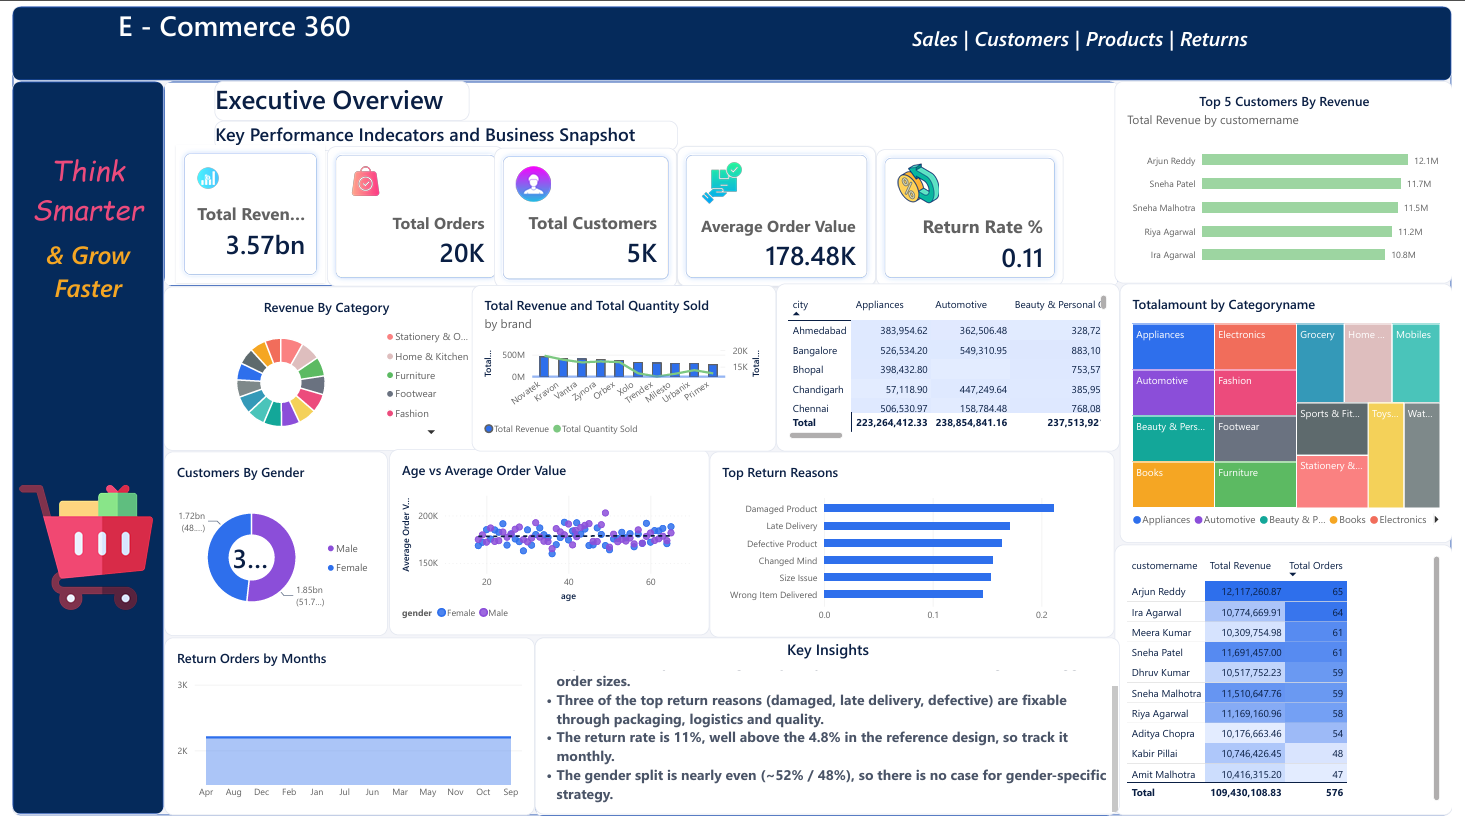

The dashboard page shown, as its layout file describes it:
{"tool":"powerbi","page":{"name":"Executive Summary","canvas":[1920,1080],"ordinal":0},"visuals":[{"type":"shape","box":[0,0,1920,1080],"z":0},{"type":"shape","box":[0,0,1920,100],"z":1000},{"type":"textbox","title":"E - Commerce 360 ","box":[100,0,392.5,50],"z":2000},{"type":"shape","box":[202.2,100,1273.9,273.9],"z":3000},{"type":"textbox","title":"Executive Overview","box":[270,100,340,52.5],"z":4000},{"type":"textbox","title":"Key Performance Indecators and Business Snapshot","box":[270,152.5,617.5,40],"z":5000},{"type":"cardVisual","fields":{"Data":["_Measures.Total Orders"]},"box":[419.6,187,237,187],"z":6000},{"type":"cardVisual","fields":{"Data":["_Measures.Total Customers"]},"box":[643.5,189.1,243.5,187],"z":7000},{"type":"cardVisual","fields":{"Data":["_Measures.Average Order Value"]},"box":[887,187,265.2,187],"z":8000},{"type":"cardVisual","fields":{"Data":["_Measures.Return Rate %"]},"box":[1152.2,191.3,250,182.6],"z":9000},{"type":"donutChart","title":"Revenue By Category","fields":{"Category":["categories.categoryname"],"Y":["_Measures.Total Revenue"]},"box":[202.2,373.9,432.6,219.6],"z":10000},{"type":"barChart","title":"Top 5 Customers By Revenue","fields":{"Category":["customers.customername"],"Y":["_Measures.Total Revenue"]},"box":[1469.7,100.2,450.9,269.6],"z":11000},{"type":"pivotTable","fields":{"Columns":["categories.categoryname"],"Rows":["customers.city"],"Values":["_Measures.Total Revenue"]},"box":[1018.8,369.8,458.1,224.3],"z":12000},{"type":"donutChart","title":"Customers By Gender","fields":{"Category":["customers.gender"],"Y":["_Measures.Total Revenue"]},"box":[202.8,594.1,298.2,245.7],"z":13000},{"type":"scatterChart","title":"Age vs Average Order Value","fields":{"Series":["customers.gender"],"X":["customers.age"],"Y":["_Measures.Average Order Value"]},"box":[503,590.9,427.3,248.5],"z":14000},{"type":"barChart","title":"Top Return Reasons","fields":{"Category":["returns.reason"],"Y":["_Measures.Return Reason %"]},"box":[930.3,593.9,539.4,248.5],"z":15000},{"type":"areaChart","title":"Return Orders by Months","fields":{"Category":["DateTable.Month"],"Y":["_Measures.Returned Orders"]},"box":[203,842.4,493.9,236.4],"z":16000},{"type":"lineStackedColumnComboChart","fields":{"Category":["products.brand"],"Y":["_Measures.Total Revenue"],"Y2":["_Measures.Total Quantity Sold"]},"box":[613.2,372.2,405.6,221.9],"z":17000},{"type":"tableEx","fields":{"Values":["customers.customername","_Measures.Total Revenue","_Measures.Total Orders"]},"box":[1469.7,718.2,451.5,360.6],"z":18000},{"type":"cardVisual","fields":{"Data":["_Measures.Total Revenue"]},"box":[219.4,186.1,197.2,183.3],"z":19000},{"type":"shape","box":[696.7,842.2,773,238.6],"z":20000},{"type":"textbox","title":" Key Insights","box":[696.7,842.2,780.2,236.2],"z":21000},{"type":"shape","box":[0,100.2,202.8,978.2],"z":22000},{"type":"treemap","title":" Totalamount by Categoryname","fields":{"Group":["categories.categoryname"],"Values":["Sum(orders.totalamount)"]},"box":[1476.9,369.8,443.8,346],"z":23000},{"type":"image","box":[9.5,594.1,178.9,255.3],"z":24000},{"type":"textbox","title":"Sales | Customers | Products | Returns","box":[1200.1,23.9,665.7,76.3],"z":24001},{"type":"textbox","title":"Think Smarter","box":[0,193.3,202.8,143.2],"z":24002},{"type":"textbox","title":" &         Grow Faster","box":[0,307.8,202.8,155.1],"z":24003}]}

Visuals, with their boxes in screenshot pixels (x1, y1, x2, y2), scaled from the page's 1920x1080 canvas onto the 1465x820 screenshot:
shape: box(0, 0, 1464, 819)
shape: box(0, 0, 1464, 76)
"E - Commerce 360 " textbox: box(76, 0, 376, 38)
shape: box(154, 76, 1126, 284)
"Executive Overview" textbox: box(206, 76, 465, 116)
"Key Performance Indecators and Business Snapshot" textbox: box(206, 116, 677, 146)
cardVisual - _Measures.Total Orders: box(320, 142, 501, 284)
cardVisual - _Measures.Total Customers: box(491, 144, 677, 286)
cardVisual - _Measures.Average Order Value: box(677, 142, 879, 284)
cardVisual - _Measures.Return Rate %: box(879, 145, 1070, 284)
"Revenue By Category" donutChart: box(154, 284, 484, 451)
"Top 5 Customers By Revenue" barChart: box(1121, 76, 1464, 281)
pivotTable - categories.categoryname x customers.city: box(777, 281, 1127, 451)
"Customers By Gender" donutChart: box(155, 451, 382, 638)
"Age vs Average Order Value" scatterChart: box(384, 449, 710, 637)
"Top Return Reasons" barChart: box(710, 451, 1121, 640)
"Return Orders by Months" areaChart: box(155, 640, 532, 819)
lineStackedColumnComboChart - products.brand x _Measures.Total Revenue: box(468, 283, 777, 451)
tableEx - customers.customername x _Measures.Total Revenue: box(1121, 545, 1464, 819)
cardVisual - _Measures.Total Revenue: box(167, 141, 318, 280)
shape: box(532, 639, 1121, 819)
" Key Insights" textbox: box(532, 639, 1127, 819)
shape: box(0, 76, 155, 819)
" Totalamount by Categoryname" treemap: box(1127, 281, 1464, 543)
image: box(7, 451, 144, 645)
"Sales | Customers | Products | Returns" textbox: box(916, 18, 1424, 76)
"Think Smarter" textbox: box(0, 147, 155, 255)
" &         Grow Faster" textbox: box(0, 234, 155, 351)
